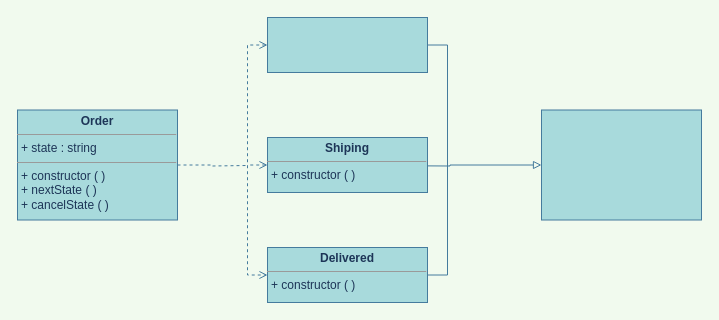
This 719x320 diagram has some shape labels left out. The shapes that lost their labels are listed below. From the top down, each one's centre as x and y in pixels, then its label:
At (347,44): "WaitingForPayment + constructor ( )".
At (621,164): "OrderStatus + name : string + nextStatus + constructor ( ) + next ( )".
